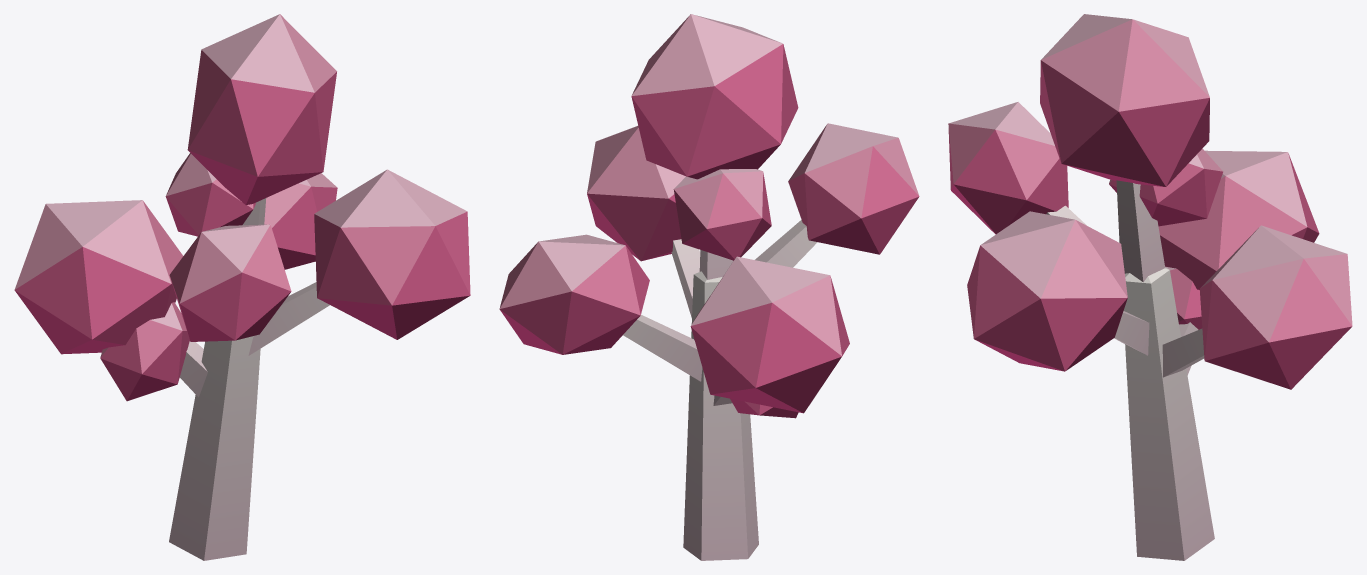
The model's file is coral-softtree.glb.
3 renders of one model, left to right at view 1: azimuth 30°, elevation 25°; view 2: azimuth 150°, elevation 25°; view 3: azimuth 270°, elevation 25°, orthographic. The views are drawn at different scales.
Parts seen in each view (by area): view 1: coral-softtree_mesh; view 2: coral-softtree_mesh; view 3: coral-softtree_mesh.
Part boxes in pixels (x1,y1,x2,y2): coral-softtree_mesh: [14, 14, 470, 560]; coral-softtree_mesh: [499, 14, 919, 560]; coral-softtree_mesh: [948, 14, 1352, 560].
Size of the model in its own units: 0.5455 by 0.7854 by 0.5198.
